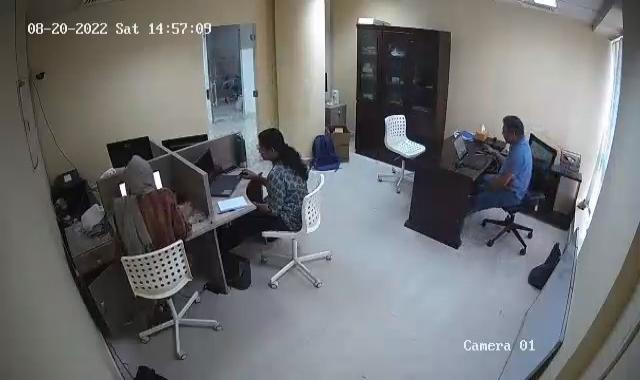no_hairnet: (126, 149, 156, 199), (256, 127, 287, 170), (501, 114, 529, 144)
